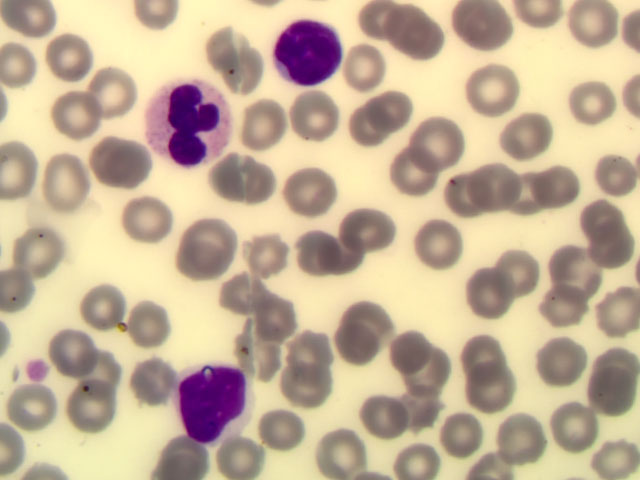RBC: (211, 29, 262, 91), (386, 9, 439, 64), (213, 157, 274, 202), (340, 304, 387, 362), (599, 351, 640, 415), (458, 275, 519, 318), (469, 67, 520, 118), (78, 285, 131, 334), (182, 220, 231, 273), (46, 153, 92, 209), (452, 1, 502, 51), (95, 138, 145, 187), (281, 363, 332, 411), (568, 80, 617, 129), (289, 165, 336, 216), (342, 207, 394, 253), (1, 141, 37, 205), (86, 71, 138, 115), (318, 432, 365, 480), (78, 350, 124, 399), (570, 1, 621, 45), (67, 383, 113, 431), (413, 122, 462, 167), (443, 175, 486, 226), (16, 231, 62, 278), (419, 222, 465, 269), (11, 383, 56, 431), (465, 364, 512, 409), (49, 332, 97, 376), (505, 113, 554, 156), (239, 323, 278, 377), (124, 198, 170, 243), (160, 441, 211, 480), (554, 407, 599, 451), (365, 397, 408, 443), (476, 167, 522, 210), (242, 101, 283, 148), (57, 98, 105, 138), (1, 1, 59, 34), (390, 151, 434, 194), (294, 94, 338, 137), (127, 306, 173, 347), (288, 334, 328, 380), (135, 358, 174, 405), (503, 418, 544, 462), (263, 410, 308, 450), (539, 345, 585, 384), (460, 339, 508, 376), (578, 206, 623, 245), (598, 292, 640, 333), (226, 277, 270, 316), (246, 234, 286, 276), (49, 36, 93, 74), (532, 170, 576, 208), (545, 288, 589, 326), (497, 251, 533, 297), (392, 333, 432, 374), (371, 89, 411, 130), (598, 156, 636, 199), (358, 1, 401, 39), (298, 228, 335, 272), (259, 294, 293, 340), (591, 440, 636, 474), (348, 48, 385, 89), (447, 415, 482, 458), (515, 1, 563, 32), (549, 251, 589, 286), (1, 43, 32, 86), (399, 450, 441, 480), (222, 443, 267, 470), (135, 1, 177, 29), (3, 267, 30, 310), (24, 458, 72, 480), (5, 424, 19, 474)
WBC: (153, 85, 234, 171), (182, 366, 253, 445), (281, 26, 338, 81)
